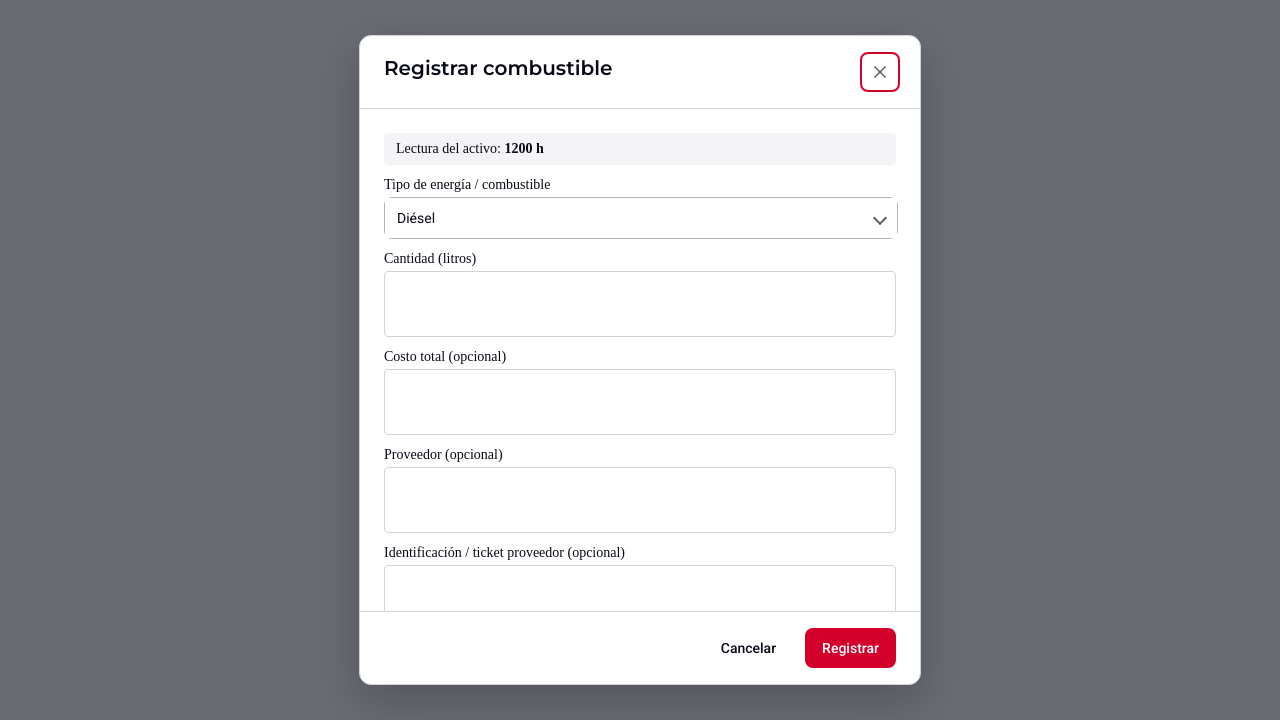
it: Captura de combustible › no permite guardar sin cantidad válida
Click the button "Registrar".
click(851, 648)  # box 805,628 -> 896,668
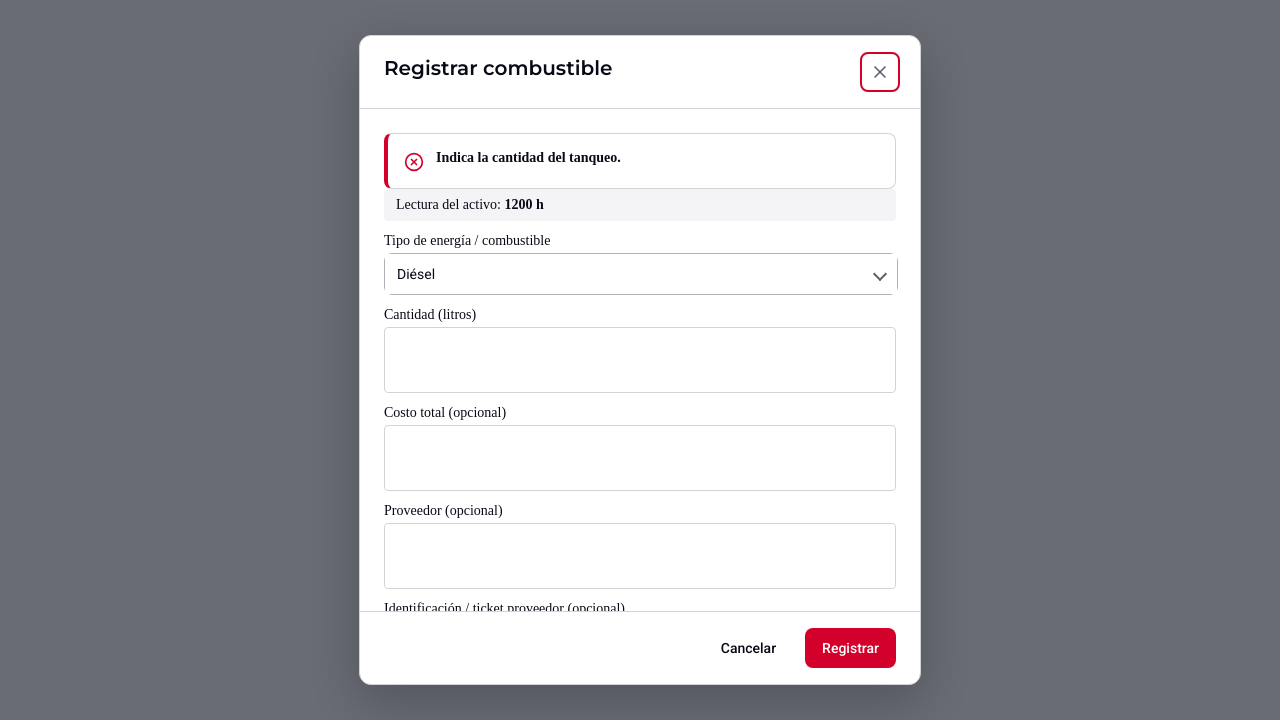
Expected: the text "Indica la cantidad del tanqueo." is shown, 436,150 -> 621,165
